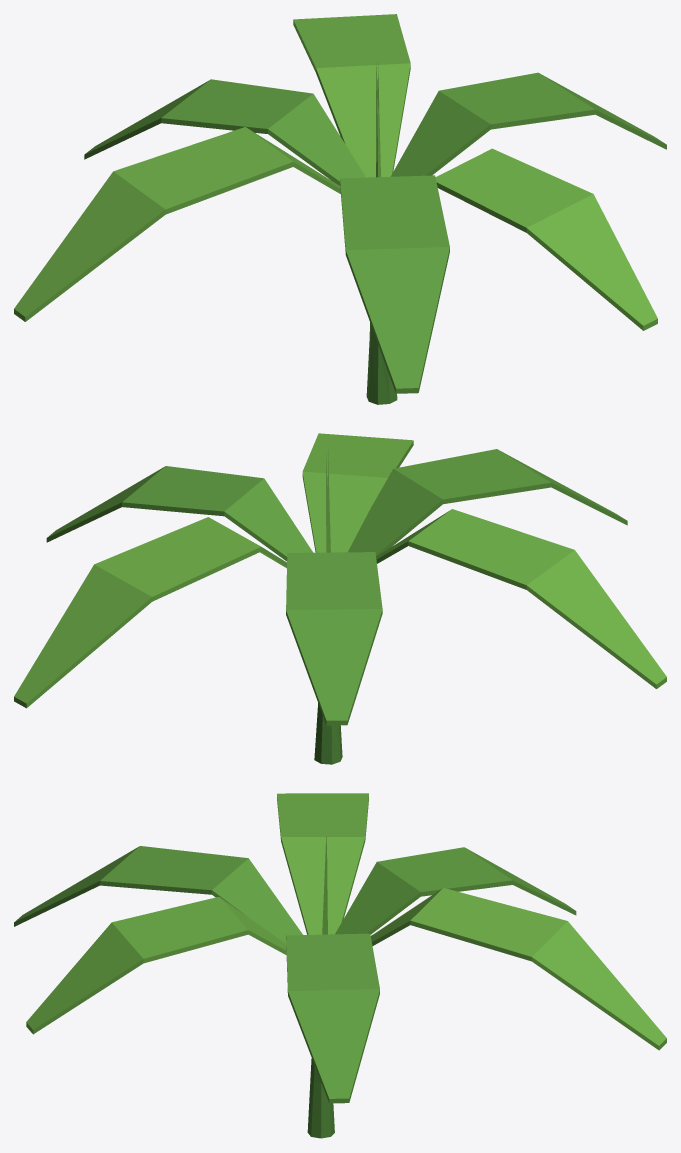
File: HS_LP_Tree_Banana_01.fbx
3 renders of one model, top to bottom at view 1: azimuth 30°, elevation 25°; view 2: azimuth 150°, elevation 25°; view 3: azimuth 270°, elevation 25°, orthographic. The views are drawn at different scales.
Parts seen in each view (by area): view 1: HS_LP_Tree_Banana_01; view 2: HS_LP_Tree_Banana_01; view 3: HS_LP_Tree_Banana_01.
Boxes of the visible parts, x1=… form: HS_LP_Tree_Banana_01: x1=14, y1=14, x2=666, y2=404; HS_LP_Tree_Banana_01: x1=14, y1=433, x2=666, y2=764; HS_LP_Tree_Banana_01: x1=14, y1=793, x2=666, y2=1138.
Size of the model in its own units: 662 by 328 by 651.
